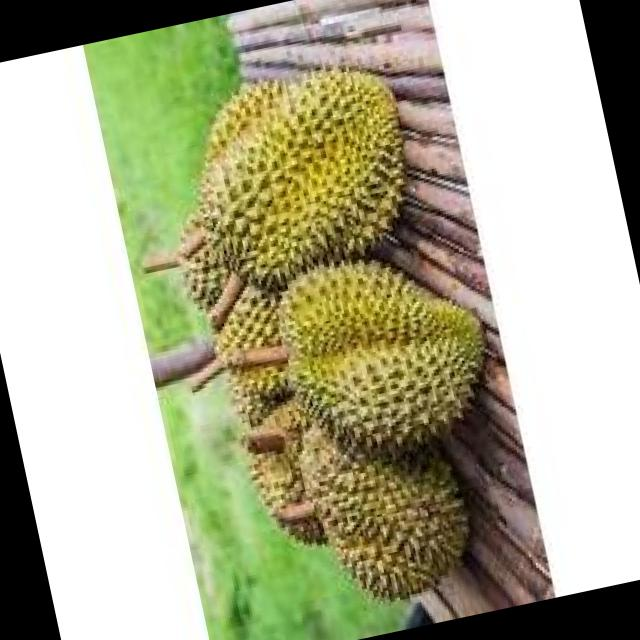fruit: (221, 219, 546, 640), (130, 25, 456, 318)
